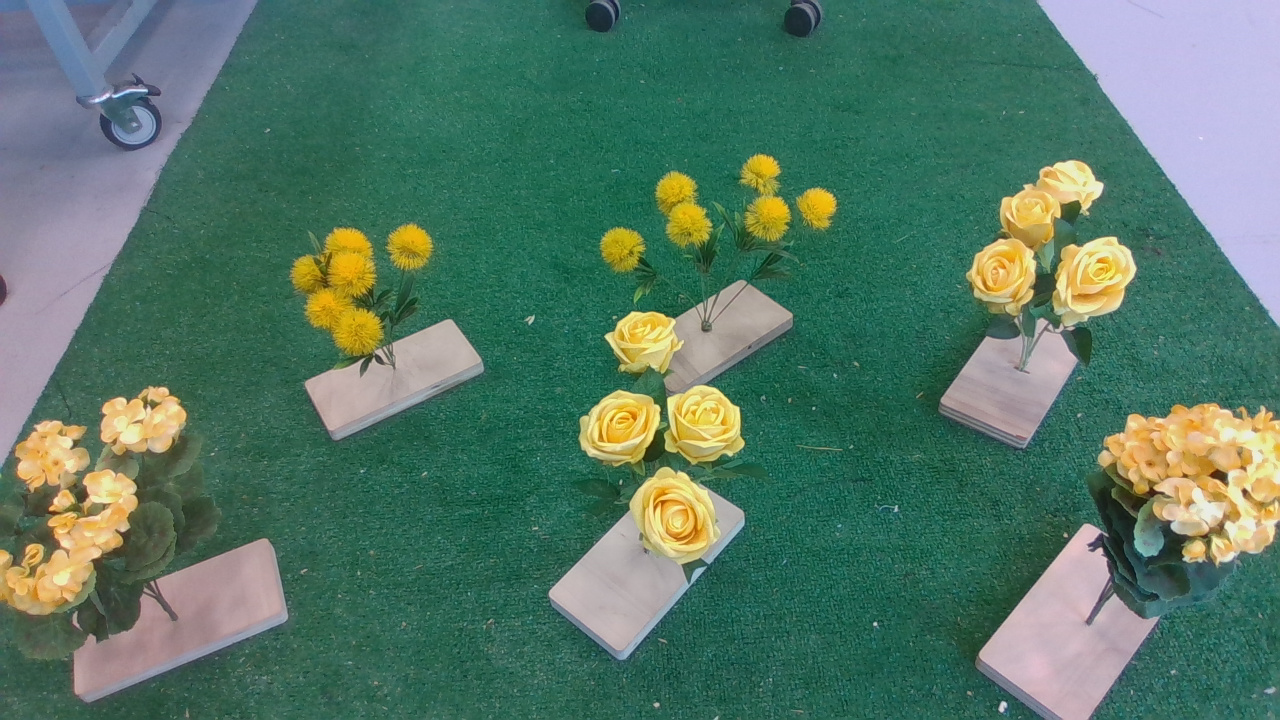dandelion: (594, 154, 846, 303), (285, 224, 444, 384)
geranium: (1, 379, 229, 665), (1088, 398, 1280, 630)
rose: (565, 312, 778, 586), (967, 153, 1146, 380)
